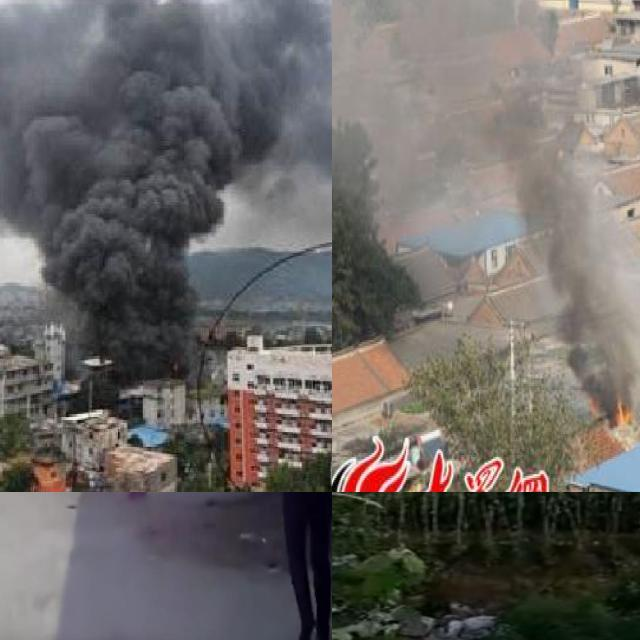fire: (610, 396, 632, 430)
smoke: (332, 0, 640, 405), (0, 0, 332, 369)
